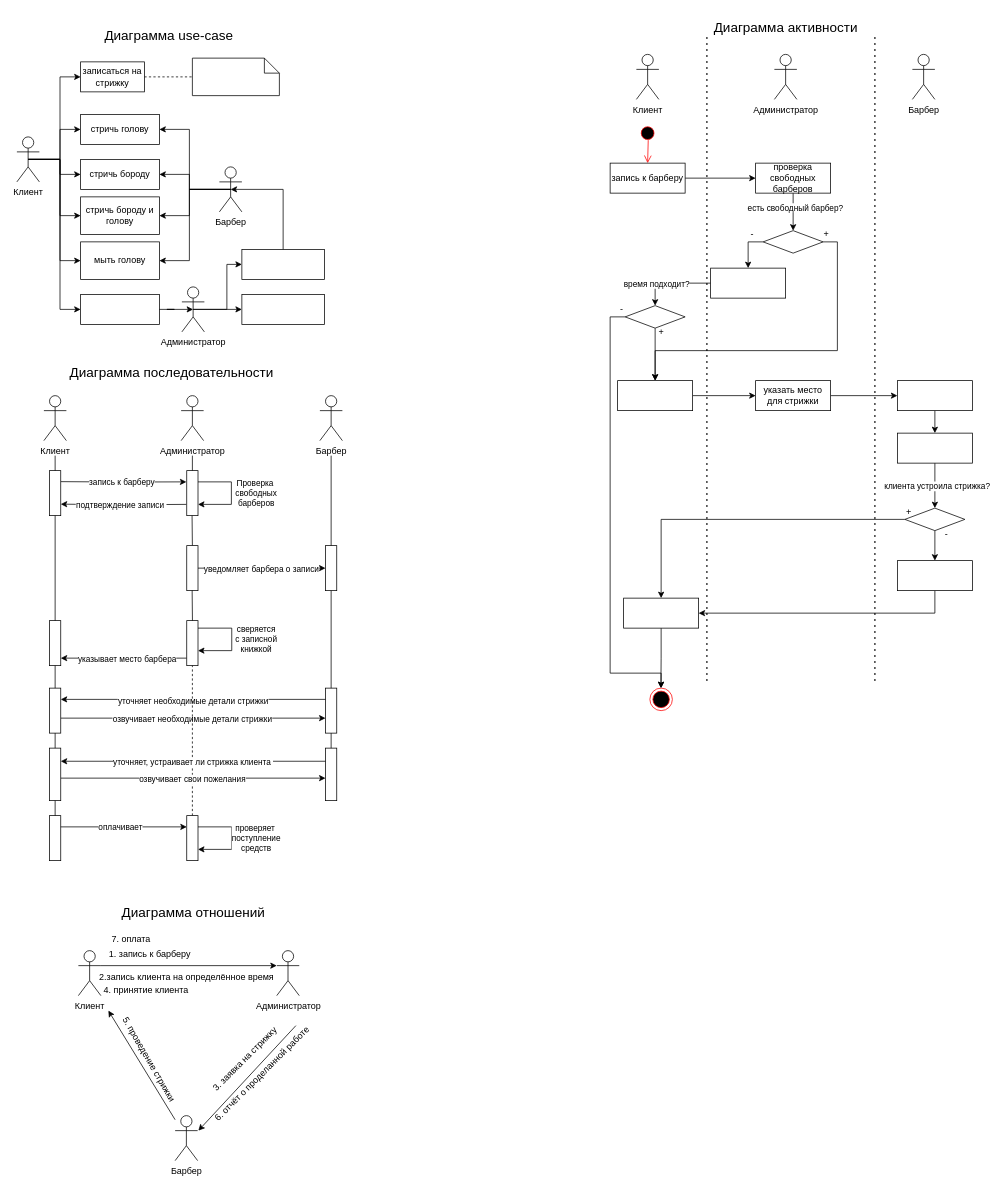
Image size: 1003x1189. Some labels were removed from this diagram. The centre of each missing label's shape, as x and y in pixels:
"Запись по телефону" belongs at point 235,76.
"исправить нюансы" belongs at point 934,575.
"назначить барбера" belongs at point 282,264.
"оплата" belongs at point 661,612.
"оплатить" belongs at point 119,309.
"подтвердить запись" belongs at point 655,395.
"предложить другое время записи" belongs at point 748,282.
"принять клиента" belongs at point 282,309.
"стричь" belongs at point 934,447.
"узнать предпочтения клиента" belongs at point 934,395.
